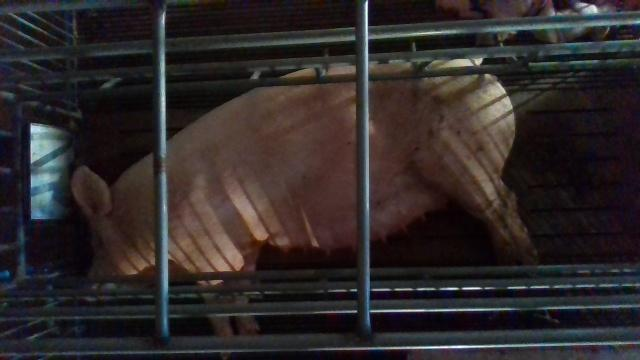sow-sleep-lactate: (72, 62, 540, 360)
